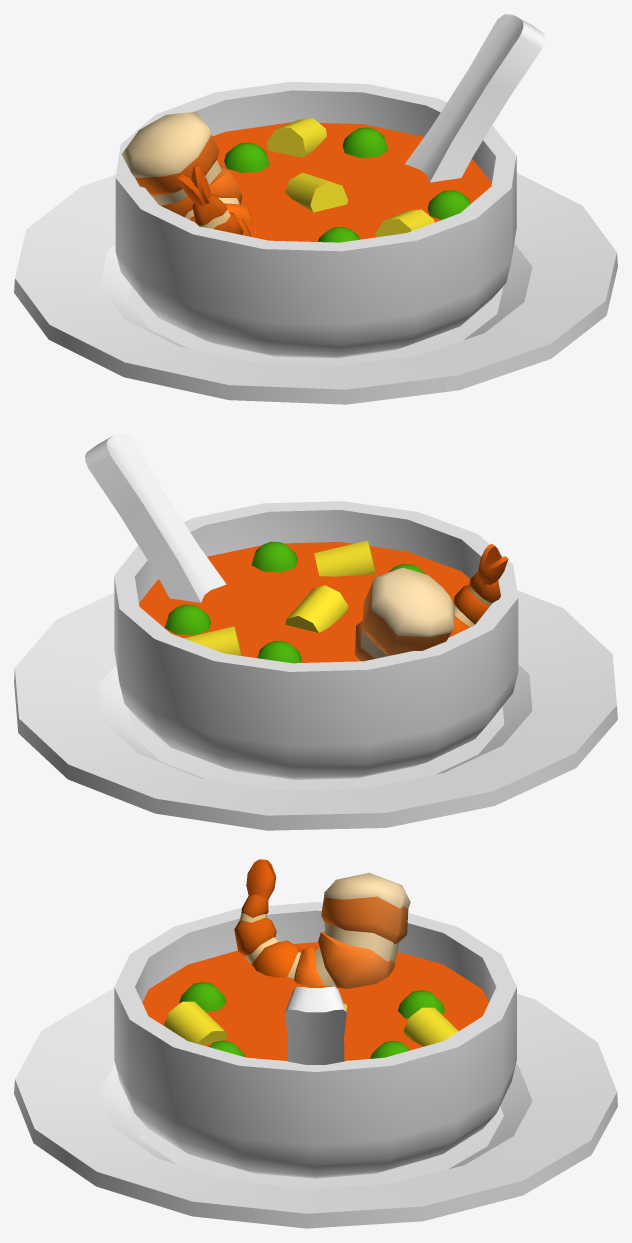
Rendered from Soup_02_Shrimp.fbx.
3 views of the same model, one above another, from view 1: azimuth 30°, elevation 25°; view 2: azimuth 150°, elevation 25°; view 3: azimuth 270°, elevation 25° (orthographic).
Visible parts, largest first — view 1: Soup_02_Shrimp; view 2: Soup_02_Shrimp; view 3: Soup_02_Shrimp.
Boxes of the visible parts, x1=… form: Soup_02_Shrimp: x1=14, y1=14, x2=617, y2=404; Soup_02_Shrimp: x1=14, y1=433, x2=617, y2=830; Soup_02_Shrimp: x1=14, y1=859, x2=617, y2=1228.
Size of the model in its own units: 75.76 by 33.05 by 75.76.
